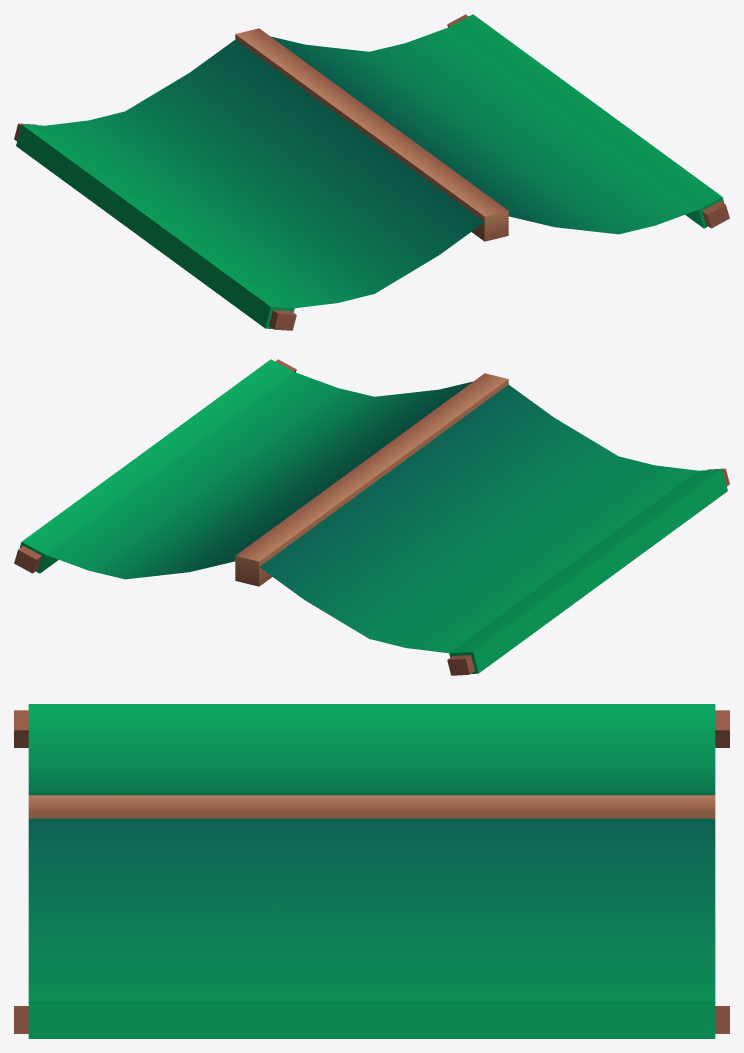
File: Parasol09.fbx
3 views of the same model, one above another, from view 1: azimuth 30°, elevation 25°; view 2: azimuth 150°, elevation 25°; view 3: azimuth 270°, elevation 25° (orthographic). The views are drawn at different scales.
Parts seen in each view (by area): view 1: Parasol09; view 2: Parasol09; view 3: Parasol09.
Boxes of the visible parts, <box> form: Parasol09: <box>14,14,729,330</box>; Parasol09: <box>14,359,729,675</box>; Parasol09: <box>14,704,729,1038</box>.
Bounding box in the file's own units: 1.69 × 0.2294 × 1.65.
Materials: 1 (1 with a texture image).
